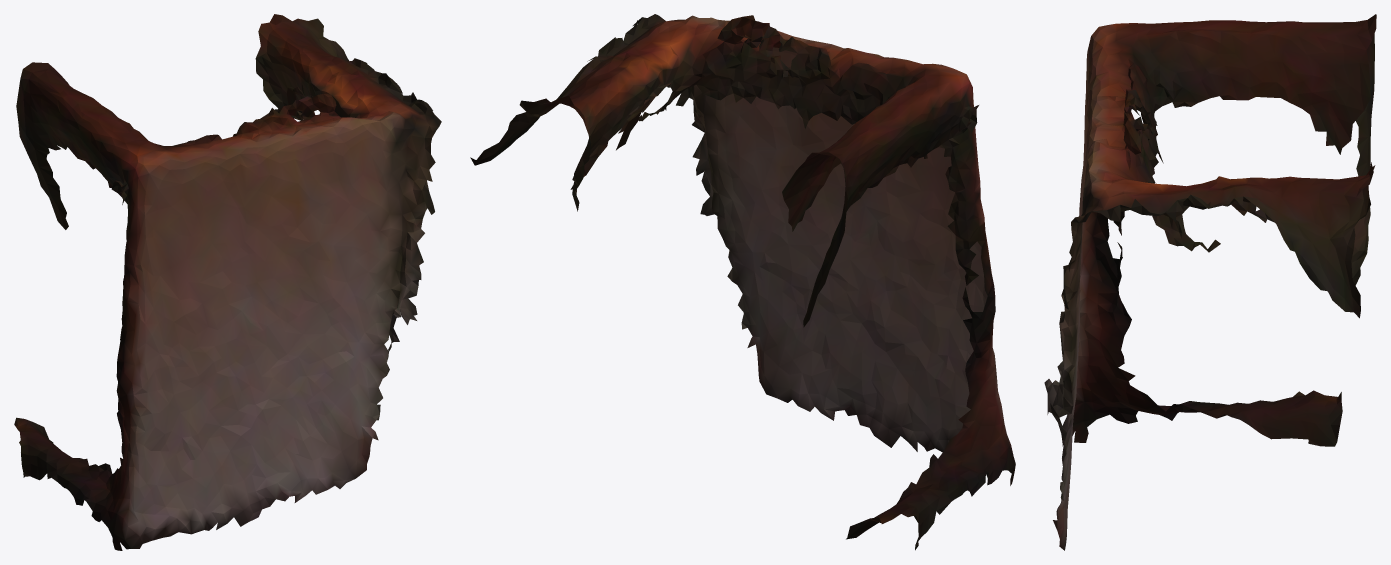
The model's file is 7-coffee table.rot.obj.
3 renders of one model, left to right at view 1: azimuth 30°, elevation 25°; view 2: azimuth 150°, elevation 25°; view 3: azimuth 270°, elevation 25°, orthographic. The views are drawn at different scales.
Bounding box in the file's own units: 0.6892 × 0.671 × 0.4435.
